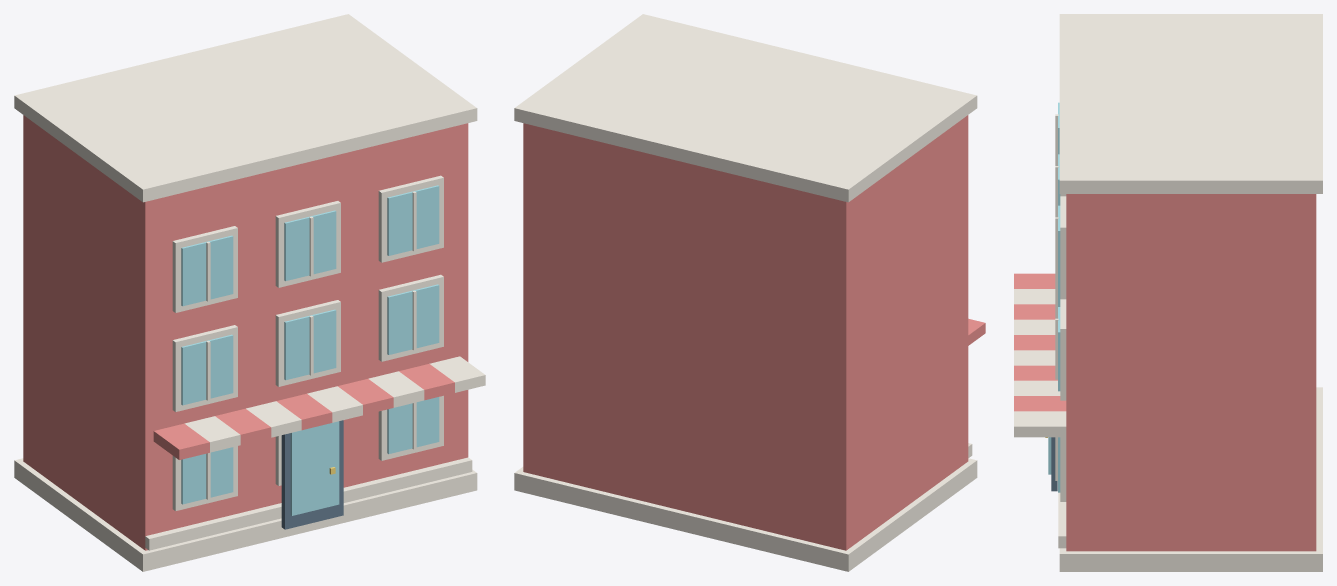
Rendered from 04_shop_red.glb.
3 renders of one model, left to right at view 1: azimuth 30°, elevation 25°; view 2: azimuth 150°, elevation 25°; view 3: azimuth 270°, elevation 25°, orthographic. The views are drawn at different scales.
Visible parts, largest first — view 1: 04_shop_red; view 2: 04_shop_red; view 3: 04_shop_red.
Boxes of the visible parts, box(x1,y1,x2,y2) form: 04_shop_red: box(14, 14, 485, 571); 04_shop_red: box(514, 14, 985, 571); 04_shop_red: box(1014, 14, 1322, 571).
Size of the model in its own units: 6 by 6.56 by 4.7.
